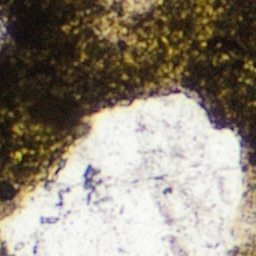cement_matrix: (0, 0, 255, 209), (99, 17, 122, 38), (84, 167, 97, 190), (0, 244, 6, 255), (254, 187, 255, 191)
gravel_crushed_stones: (0, 89, 255, 255), (121, 0, 154, 16), (100, 18, 121, 37), (83, 166, 98, 191), (0, 22, 2, 37), (110, 0, 114, 1)
